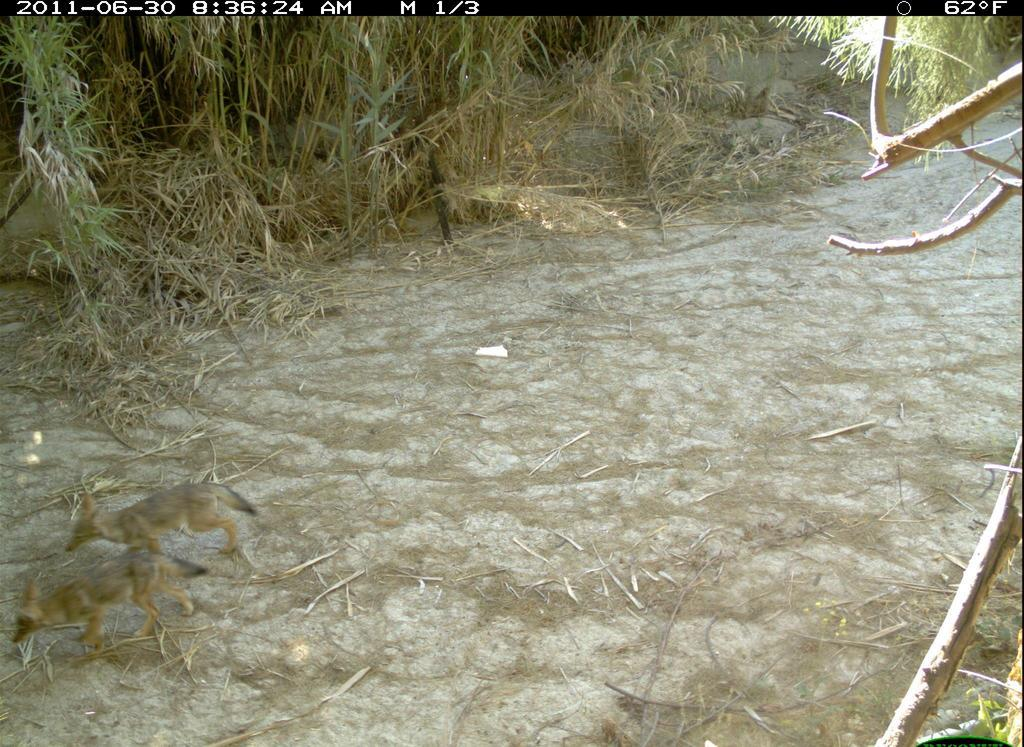coyote: (2, 547, 208, 664), (53, 465, 276, 564)
